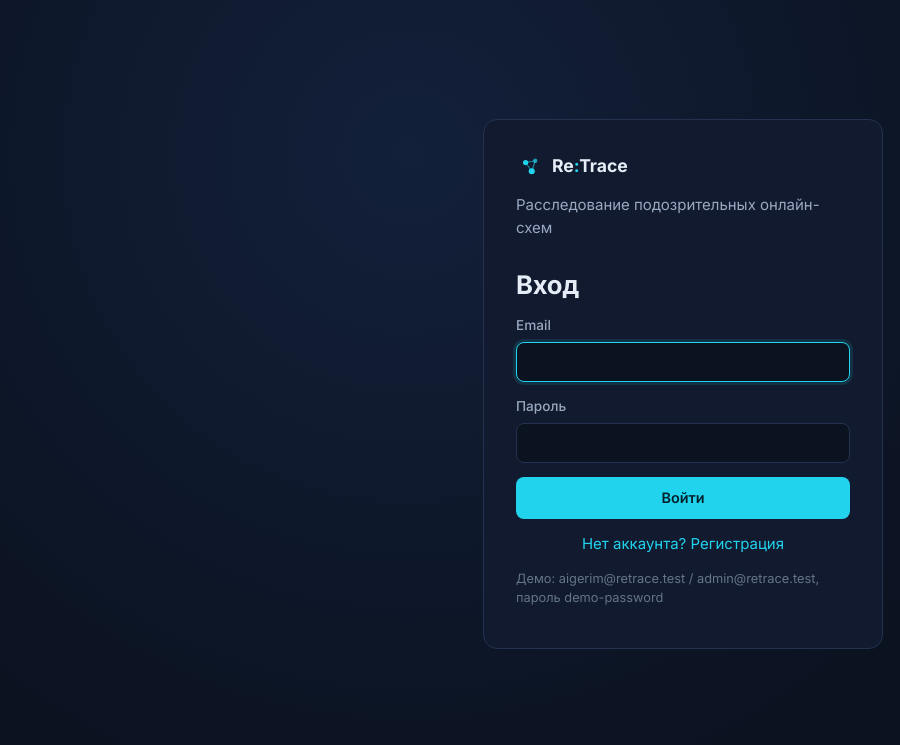
Test: sign-in › validates the registration password length
Click the button "Нет аккаунта? Регистрация": (683, 544) [516,533,850,555]
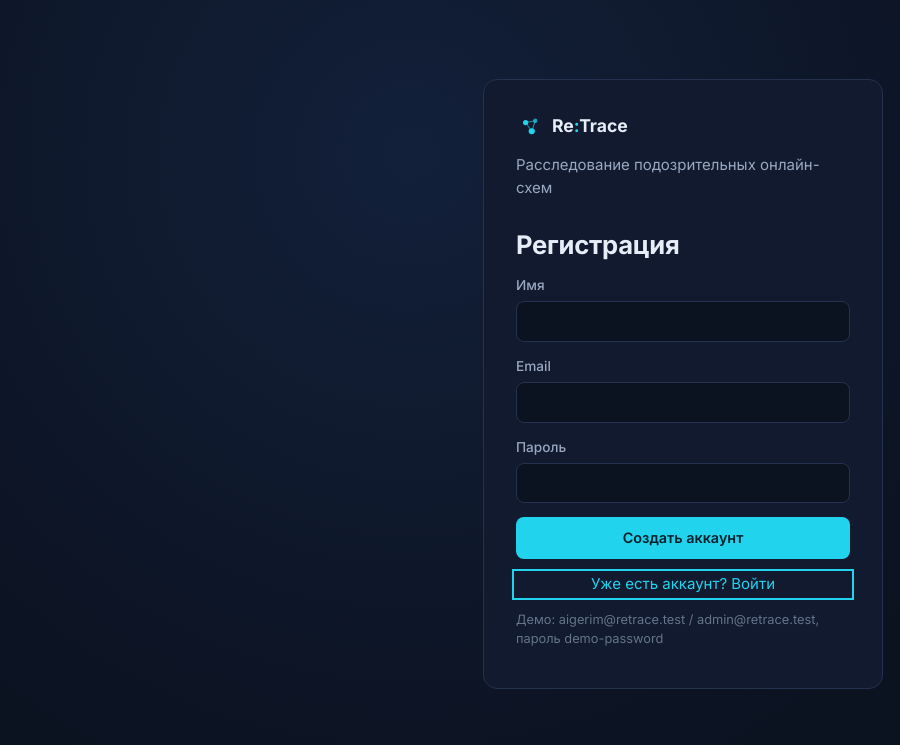
In the field labelled "Имя": (683, 322) [516,302,850,342], type "Тест"
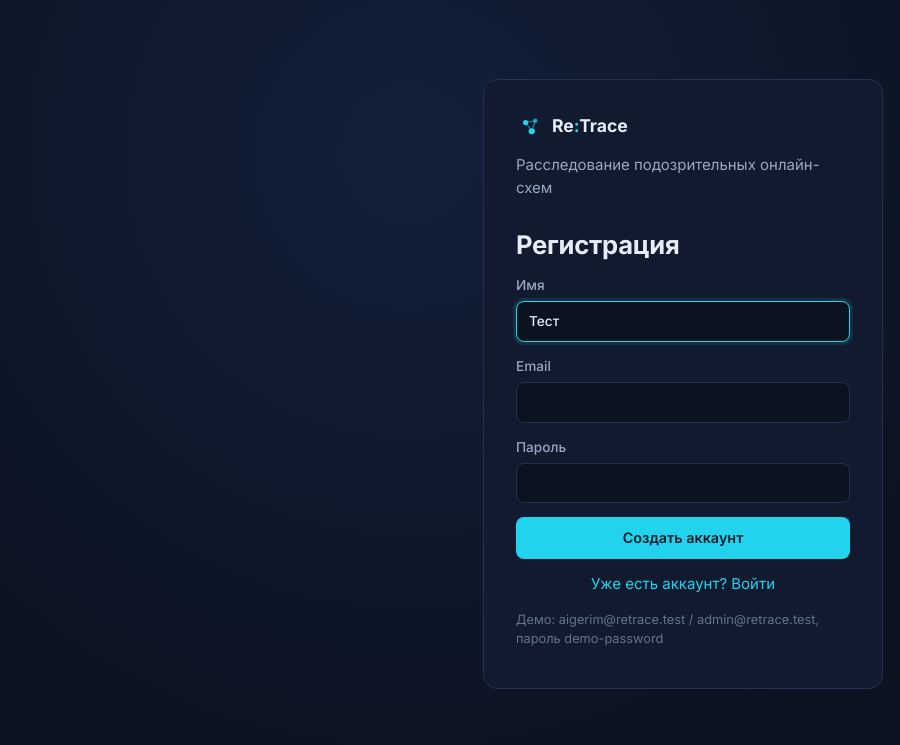
In the field labelled "Email": (683, 402) [516,382,850,423], type "new@retrace.test"
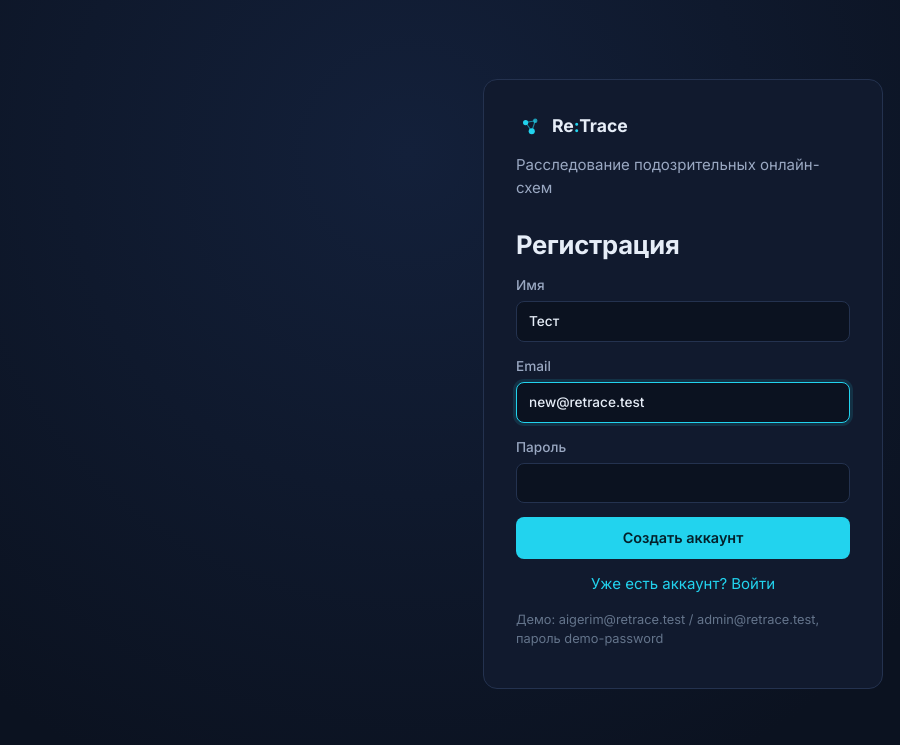
In the password field labelled "Пароль": (683, 483) [516,463,850,503], type "short"
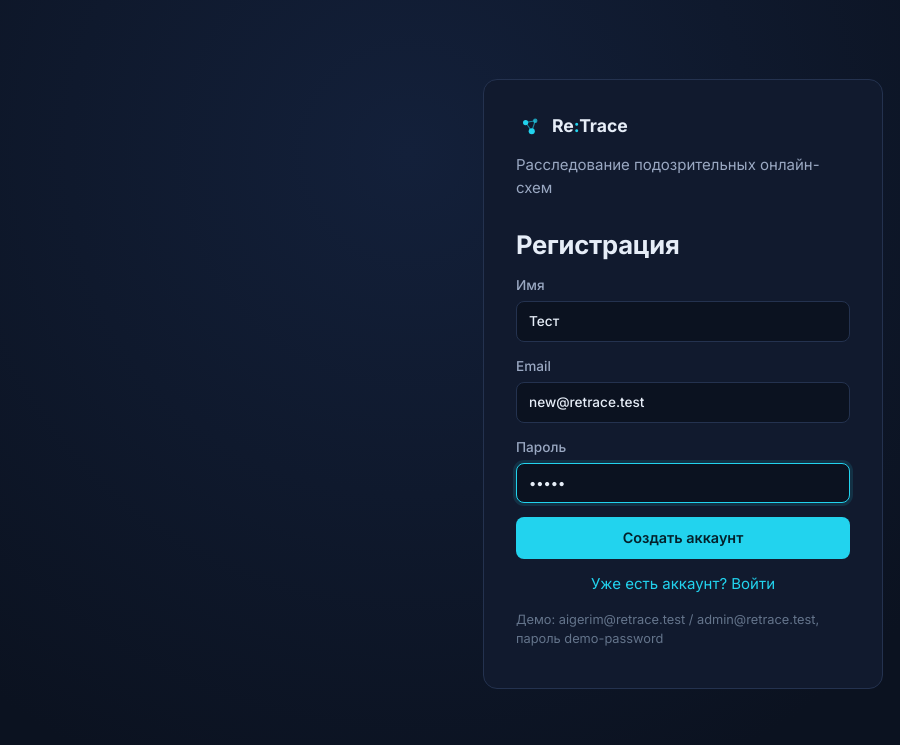
Click the button "Создать аккаунт": (683, 538) [516,517,850,559]
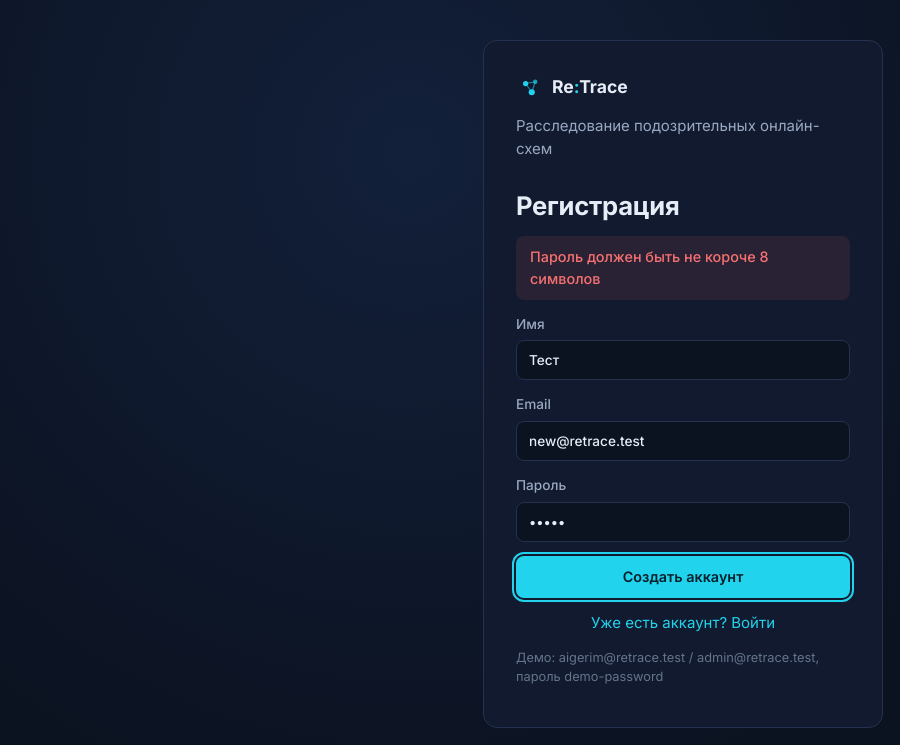
Result: the message shows "не короче 8" at [530,248,768,287]
